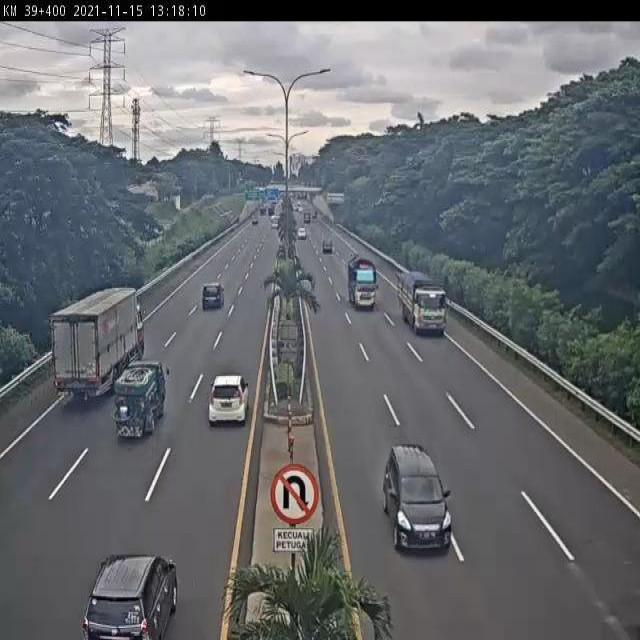car: (80, 554, 182, 640), (381, 445, 452, 552), (207, 375, 251, 425), (201, 280, 226, 311)
truck-l-: (53, 287, 147, 404), (395, 268, 449, 335)
truck-m-: (112, 360, 168, 440), (347, 251, 378, 309)
